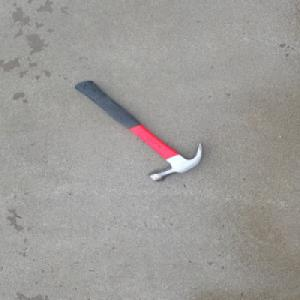Hammer: (69, 79, 201, 182)
